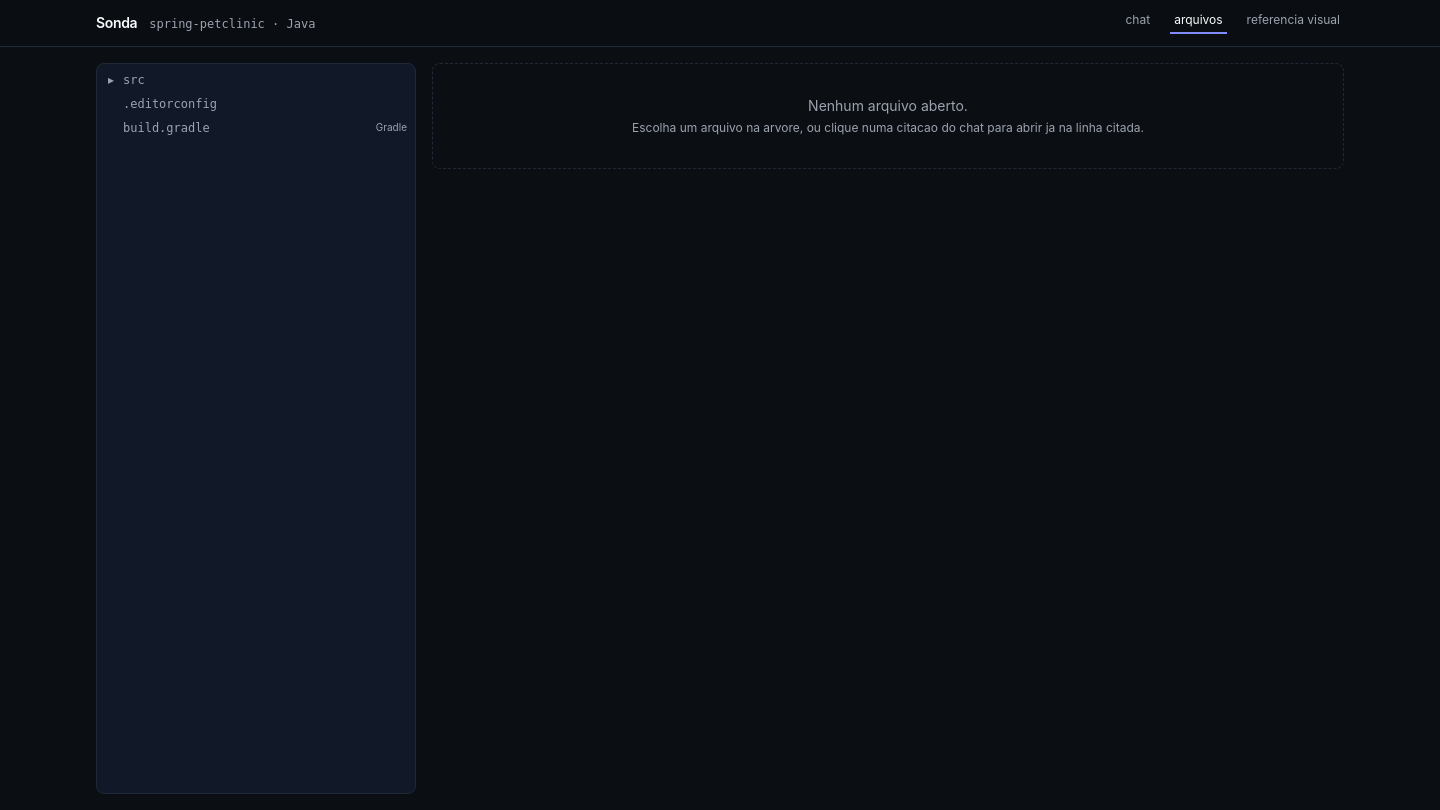
Test: arvore de arquivos › abre pasta no clique e revela os filhos
Click the list item "▸ src" at x=126, y=80, box [108,72,145,87]
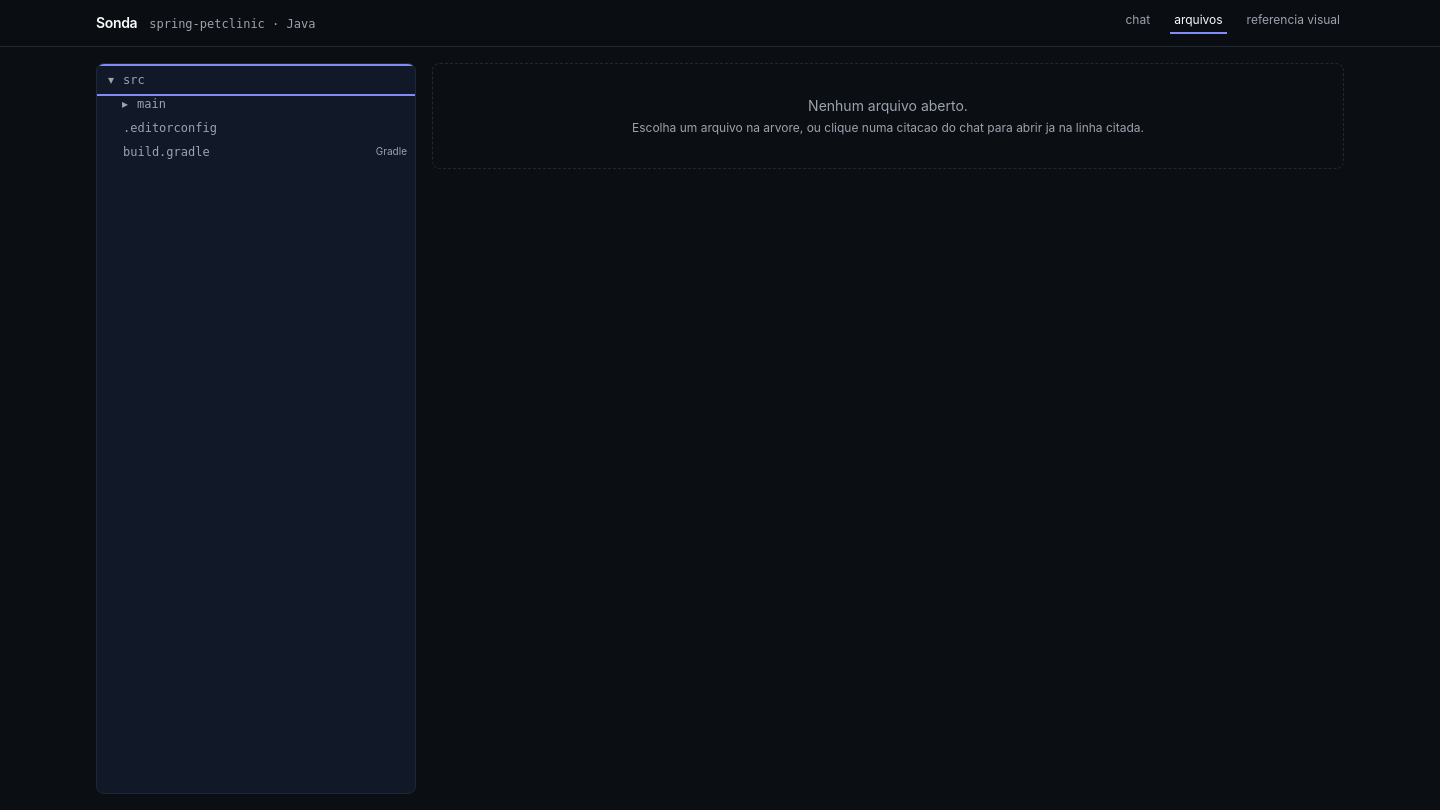
Expected: the list item "▸ main" is shown, [122,96,166,111]
Expected: the list item "▾ src" is expanded, [108,72,145,87]
